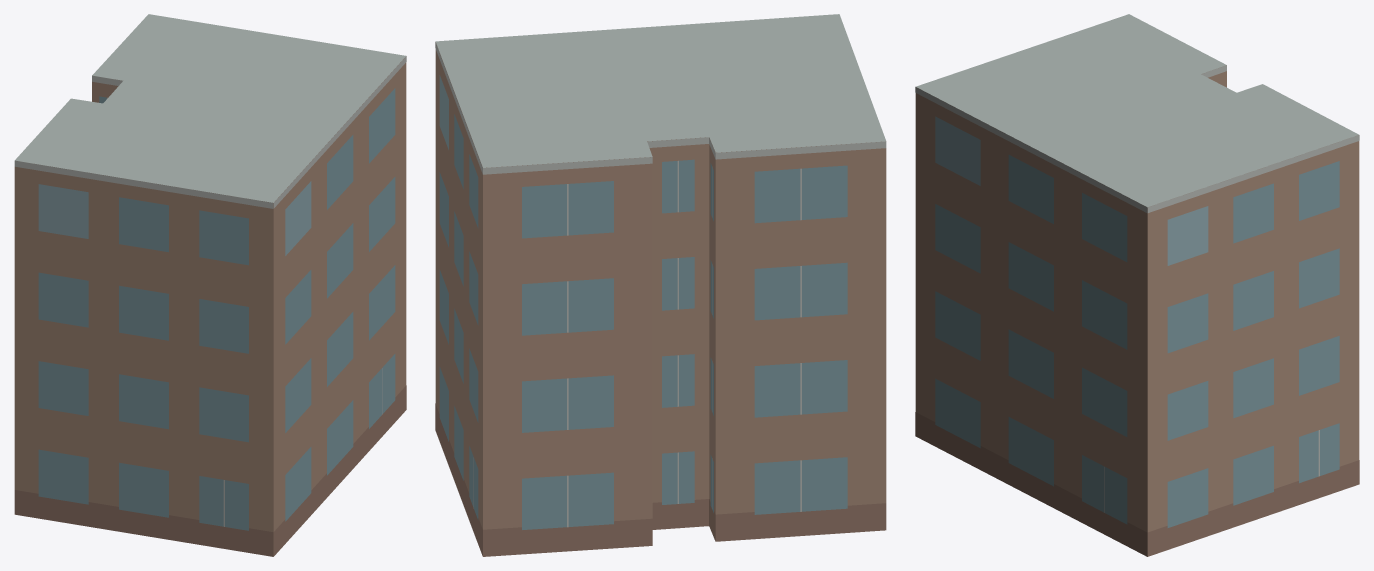
The model's file is survey-upis-32746040.glb.
The picture shows the model from 3 angles, left to right: view 1: azimuth 30°, elevation 25°; view 2: azimuth 150°, elevation 25°; view 3: azimuth 270°, elevation 25°; orthographic projection. The views are drawn at different scales.
Parts seen in each view (by area): view 1: survey-upis-32746040.tmp; view 2: survey-upis-32746040.tmp; view 3: survey-upis-32746040.tmp.
Boxes of the visible parts, x1,y1,x2,y2 form: survey-upis-32746040.tmp: [14, 14, 406, 556]; survey-upis-32746040.tmp: [435, 14, 886, 556]; survey-upis-32746040.tmp: [915, 14, 1359, 556].
Size of the model in its own units: 16.73 by 14.1 by 16.23.
